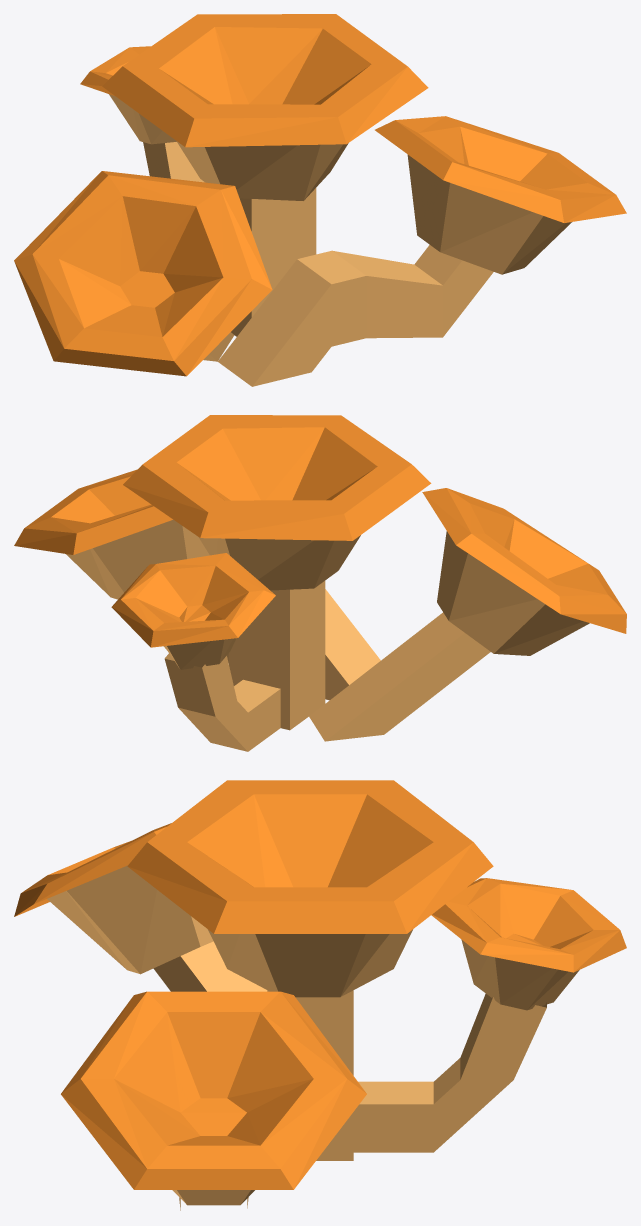
Rendered from nastyfungus.obj.
3 renders of one model, top to bottom at view 1: azimuth 30°, elevation 25°; view 2: azimuth 150°, elevation 25°; view 3: azimuth 270°, elevation 25°, orthographic. The views are drawn at different scales.
Visible parts, largest first — view 1: nastyfungus_back; view 2: nastyfungus_back; view 3: nastyfungus_back.
Boxes of the visible parts, bbox=[...] form: nastyfungus_back: bbox=[14, 14, 626, 386]; nastyfungus_back: bbox=[14, 415, 626, 751]; nastyfungus_back: bbox=[14, 780, 626, 1210].
Size of the model in its own units: 1.16 by 0.5 by 0.92.
